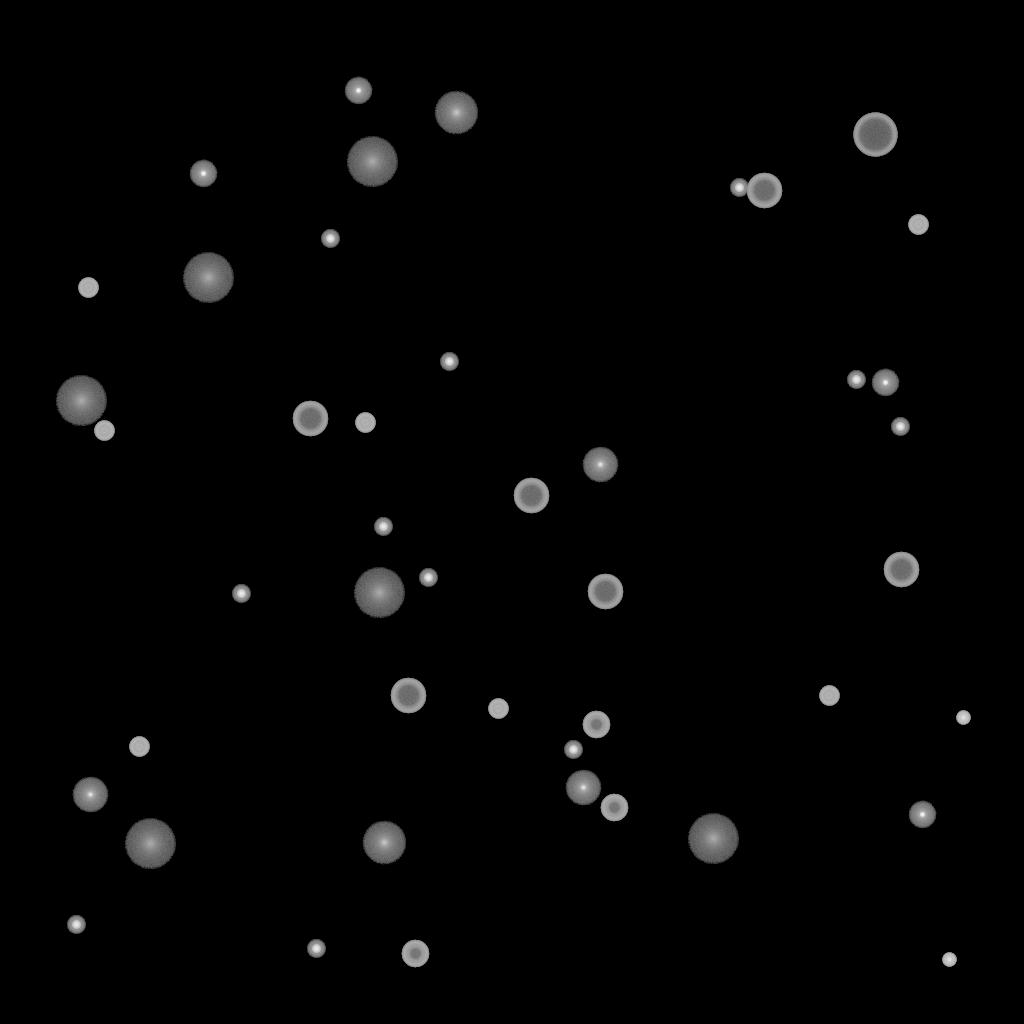depth:-10: (908, 801, 936, 829), (189, 160, 217, 188), (344, 77, 372, 105), (871, 369, 899, 397)
depth:-20: (847, 371, 865, 389), (67, 916, 85, 934), (730, 179, 748, 197), (307, 940, 325, 958), (321, 230, 339, 248), (419, 569, 437, 587), (891, 418, 909, 436), (440, 353, 458, 371), (232, 585, 250, 603), (374, 518, 392, 536), (564, 741, 582, 759)
depth:-30: (942, 953, 956, 967), (956, 711, 970, 725)
depth:-40: (819, 686, 839, 706), (355, 413, 375, 433), (908, 215, 928, 235), (78, 278, 98, 298), (94, 421, 114, 441), (129, 737, 149, 757), (488, 699, 508, 719)
depth:-50: (582, 711, 610, 739), (600, 794, 628, 822), (401, 940, 429, 968)
depth:-60: (883, 552, 919, 588), (587, 574, 623, 610), (292, 401, 328, 437), (513, 478, 549, 514), (390, 678, 426, 714), (746, 173, 782, 209)
depth:-70: (853, 113, 897, 157)
depth:0: (72, 777, 108, 813), (582, 447, 618, 483), (565, 770, 601, 806)
depth:10: (434, 91, 478, 135), (362, 821, 406, 865)
depth:20: (687, 814, 739, 864), (124, 819, 176, 869), (353, 568, 405, 618), (346, 137, 398, 187), (182, 253, 234, 303), (55, 376, 107, 426)
